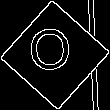O_S: (32, 28, 78, 82)
